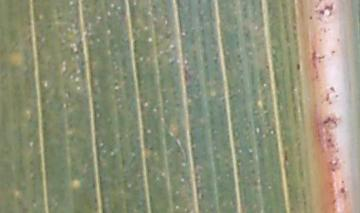tarspot: (295, 63, 302, 71)
